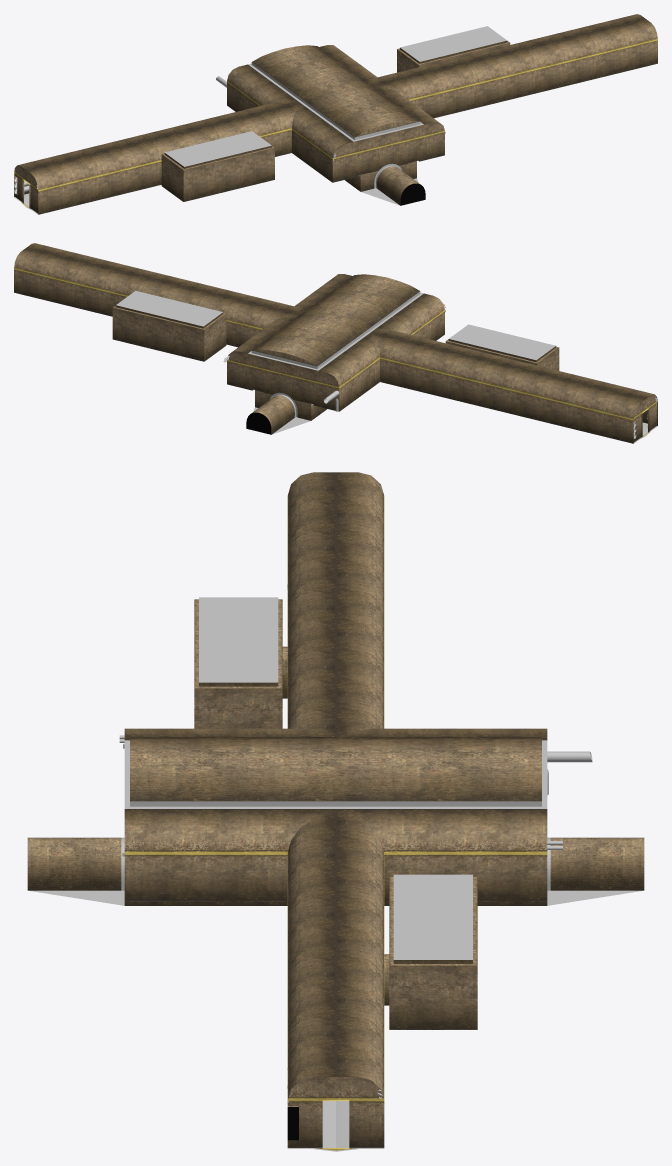
The model's file is TunnelSpace_Bridge.FBX.
3 views of the same model, one above another, from view 1: azimuth 30°, elevation 25°; view 2: azimuth 150°, elevation 25°; view 3: azimuth 270°, elevation 25° (orthographic). The views are drawn at different scales.
Parts seen in each view (by area): view 1: TunnelSpace_Bridge, TunnelSpace_Bridge-C, TunnelSpace_Bridge-B; view 2: TunnelSpace_Bridge, TunnelSpace_Bridge-C, TunnelSpace_Bridge-B; view 3: TunnelSpace_Bridge, TunnelSpace_Bridge-B, TunnelSpace_Bridge-C.
Boxes of the visible parts, box(x1,y1,x2,y2) form: TunnelSpace_Bridge: box(227, 45, 444, 205); TunnelSpace_Bridge-C: box(14, 101, 300, 214); TunnelSpace_Bridge-B: box(371, 14, 657, 118); TunnelSpace_Bridge: box(227, 274, 444, 434); TunnelSpace_Bridge-C: box(371, 324, 657, 443); TunnelSpace_Bridge-B: box(14, 243, 300, 361); TunnelSpace_Bridge: box(27, 728, 644, 905); TunnelSpace_Bridge-B: box(287, 809, 477, 1151); TunnelSpace_Bridge-C: box(194, 472, 384, 736).
Size of what is drawn, in the model's own units: 6398 by 593 by 2756.
